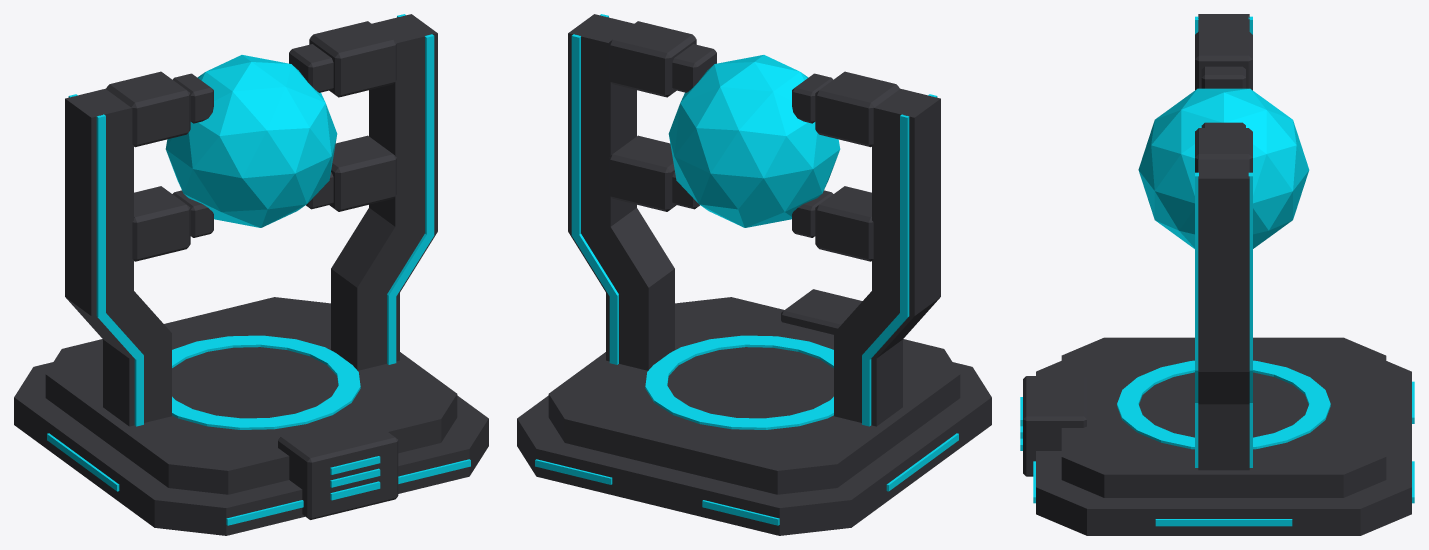
File: TrainingCore.fbx
The picture shows the model from 3 angles, left to right: view 1: azimuth 30°, elevation 25°; view 2: azimuth 150°, elevation 25°; view 3: azimuth 270°, elevation 25°; orthographic projection. The views are drawn at different scales.
Visible parts, largest first — view 1: CoreStand_Frame, EnergyCore, CoreStand_Glow; view 2: CoreStand_Frame, EnergyCore, CoreStand_Glow; view 3: CoreStand_Frame, EnergyCore, CoreStand_Glow.
Part boxes in pixels (x1,y1,x2,y2): CoreStand_Frame: (14,14,488,535); EnergyCore: (165,55,337,227); CoreStand_Glow: (47,14,470,525); CoreStand_Frame: (517,14,991,535); EnergyCore: (668,55,840,227); CoreStand_Glow: (535,14,958,525); CoreStand_Frame: (1023,14,1411,535); EnergyCore: (1138,88,1309,248); CoreStand_Glow: (1020,16,1414,526).
Size of the model in its own units: 4.56 by 4.7 by 4.61.
